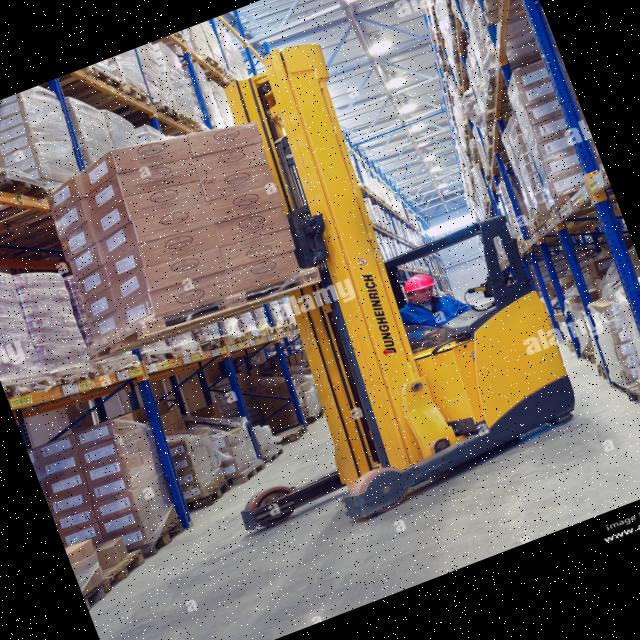Person: (392, 261, 476, 345)
